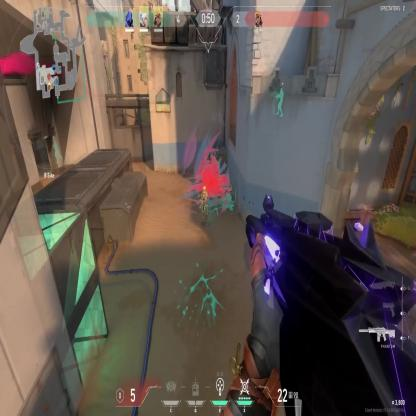enemy: (199, 184, 210, 227)
enemy_head: (203, 185, 206, 194)
